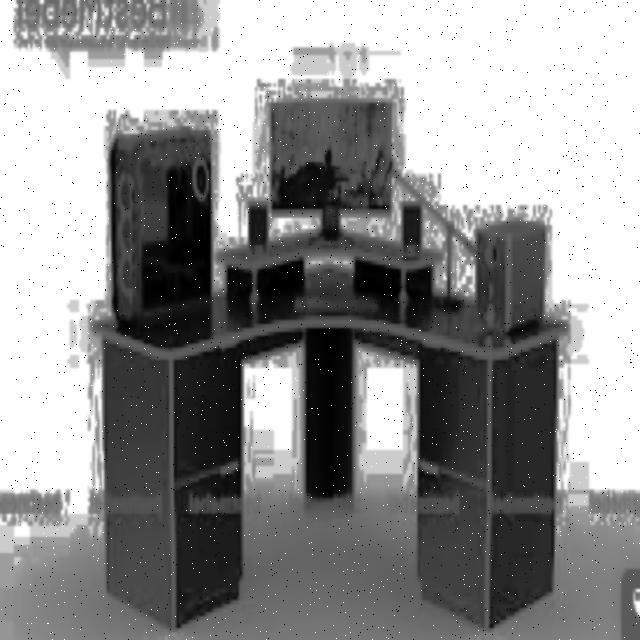table: (93, 265, 568, 628)
